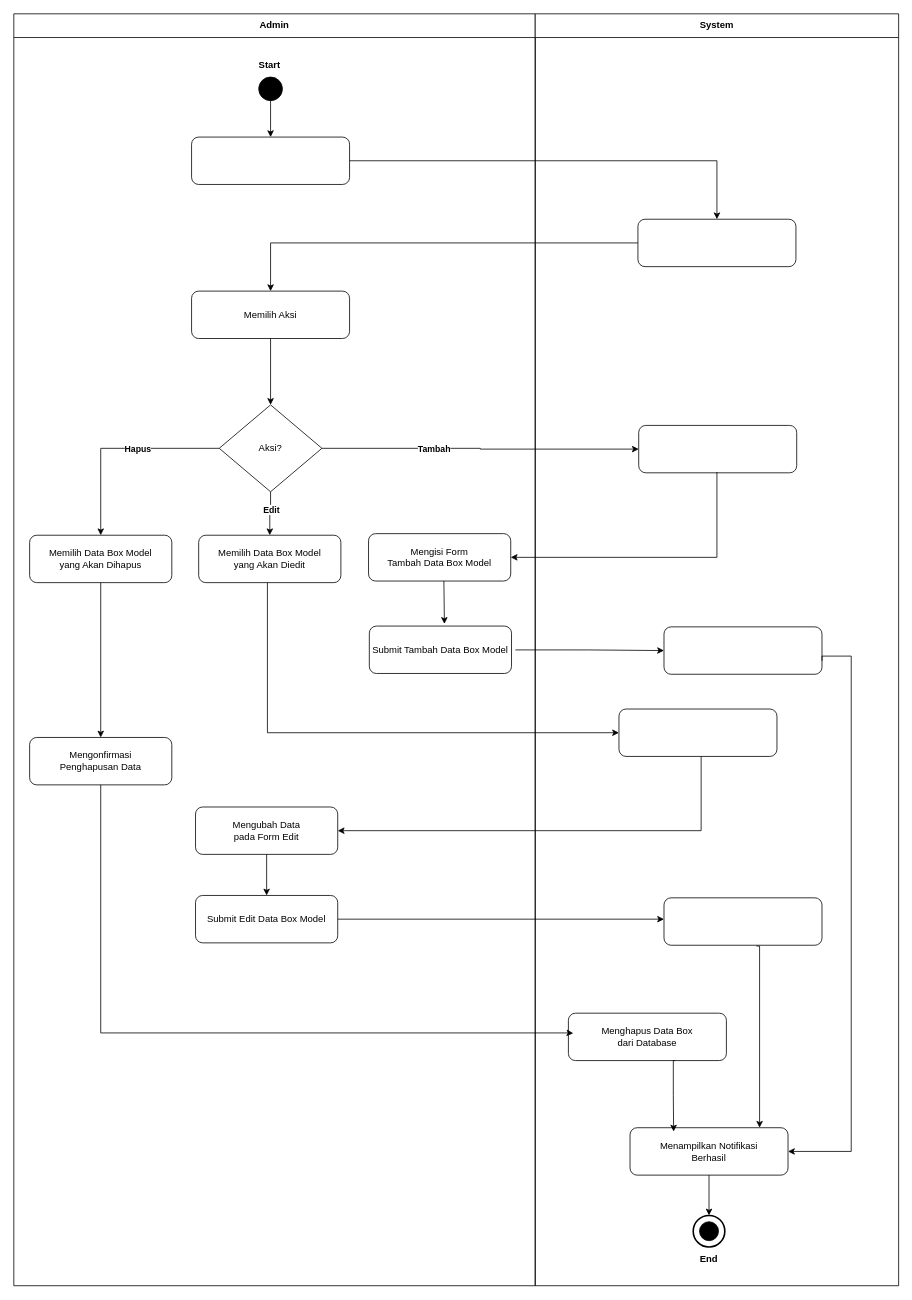
Some shapes in this 912 by 1300 pixel diagram are drawn without their labels. The shapes that lost their labels are listed below. From the top down, each one's centre as x and y in pixels, then its label:
(x=270, y=160): Mengakses Halaman Box Model Management
(x=716, y=242): Menampilkan Daftar Data Box Model
(x=717, y=449): Menampilkan Form Tambah Data Box Model
(x=742, y=650): Menyimpan Data Box Model Baru ke Database
(x=697, y=732): Menampilkan Form Edit Data Box Model
(x=742, y=921): Memperbarui Data Box Model di Database
